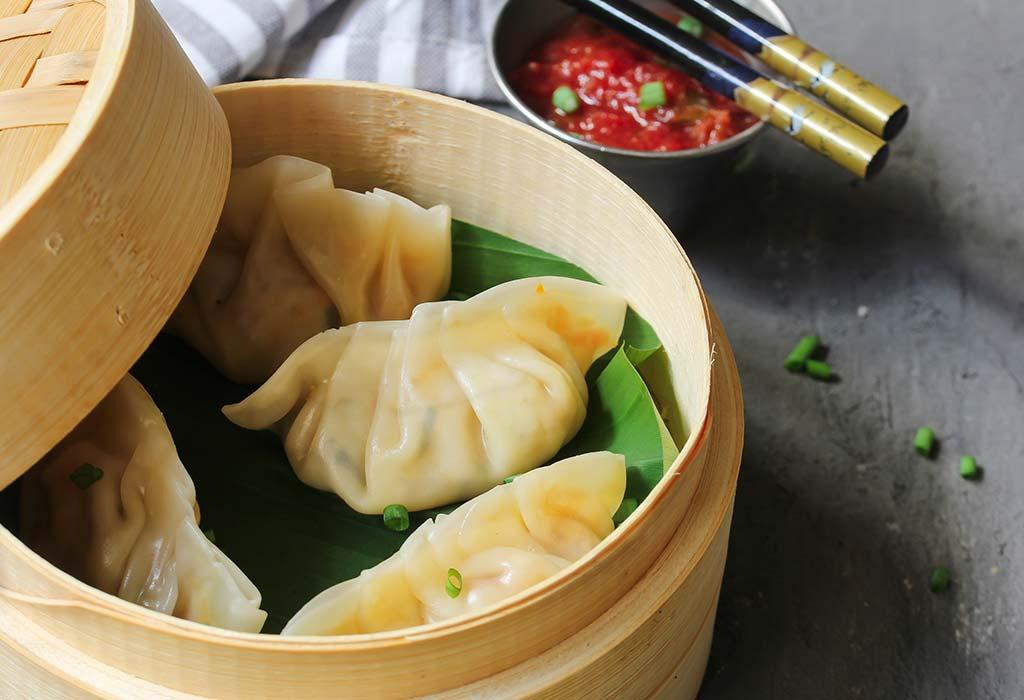momos: (224, 276, 626, 513), (170, 156, 452, 384), (20, 376, 266, 631), (286, 452, 626, 634)
